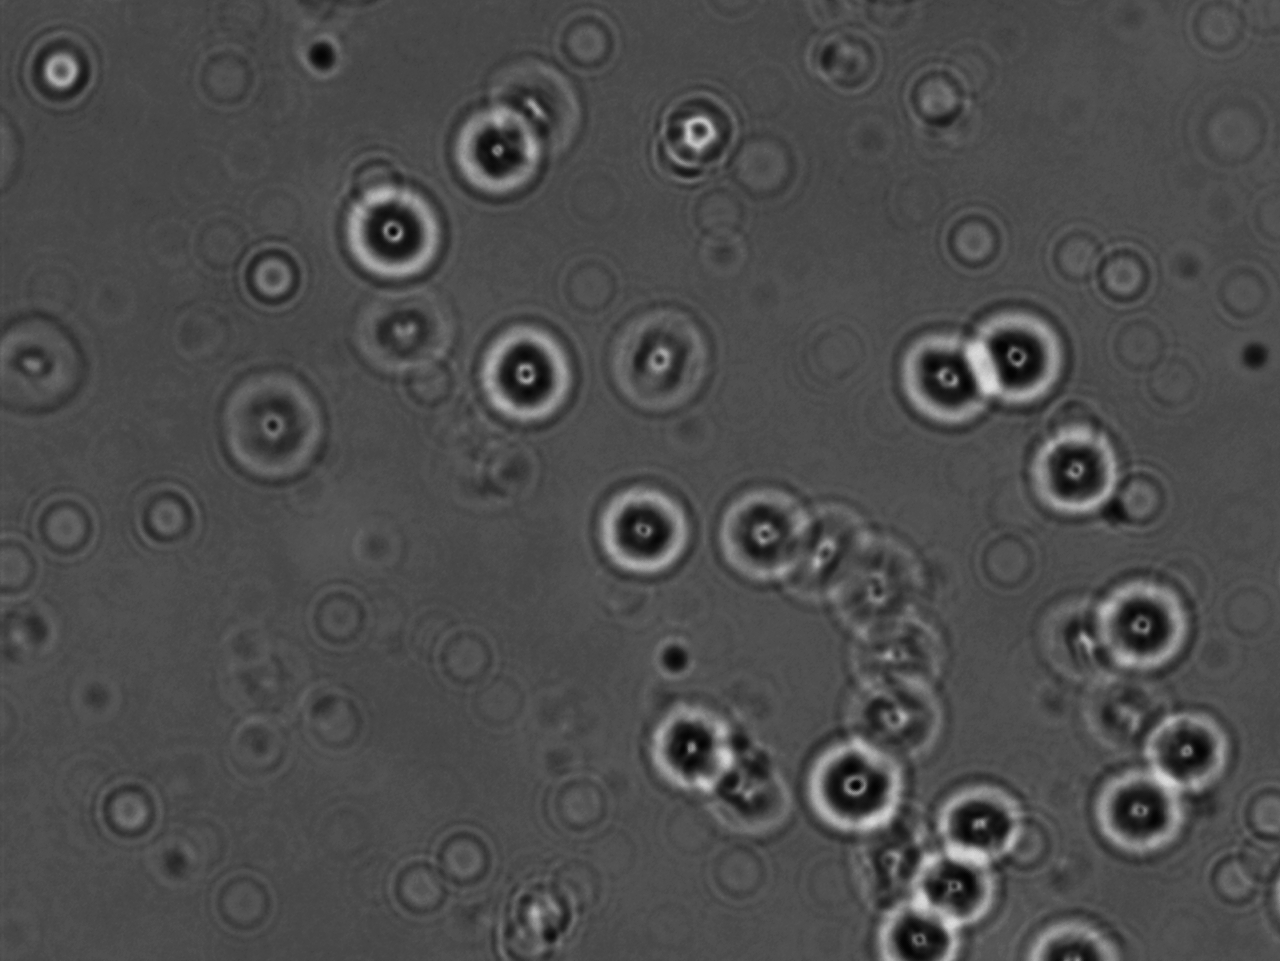depth:-8: (208, 366, 360, 501), (788, 712, 927, 849), (602, 291, 729, 438), (462, 300, 593, 441), (588, 470, 713, 609), (958, 293, 1090, 418), (1119, 686, 1255, 809), (880, 311, 1011, 436), (1008, 409, 1138, 535), (1086, 563, 1208, 687), (333, 171, 460, 288), (921, 761, 1046, 875), (447, 96, 563, 215), (628, 685, 736, 810), (1076, 751, 1193, 861), (896, 828, 1017, 931), (862, 866, 992, 961)
